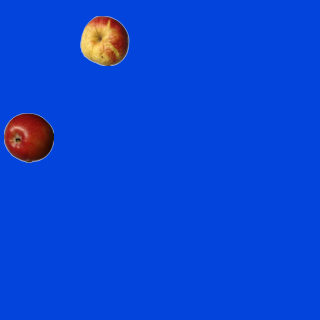Apple Braeburn: (3, 112, 53, 162)
Apple Red Yellow 1: (79, 15, 129, 65)
